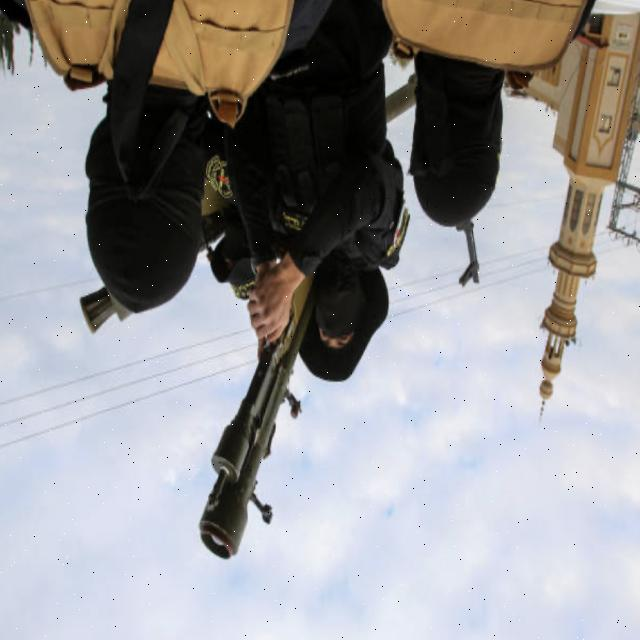bazooka: (190, 324, 302, 570)
